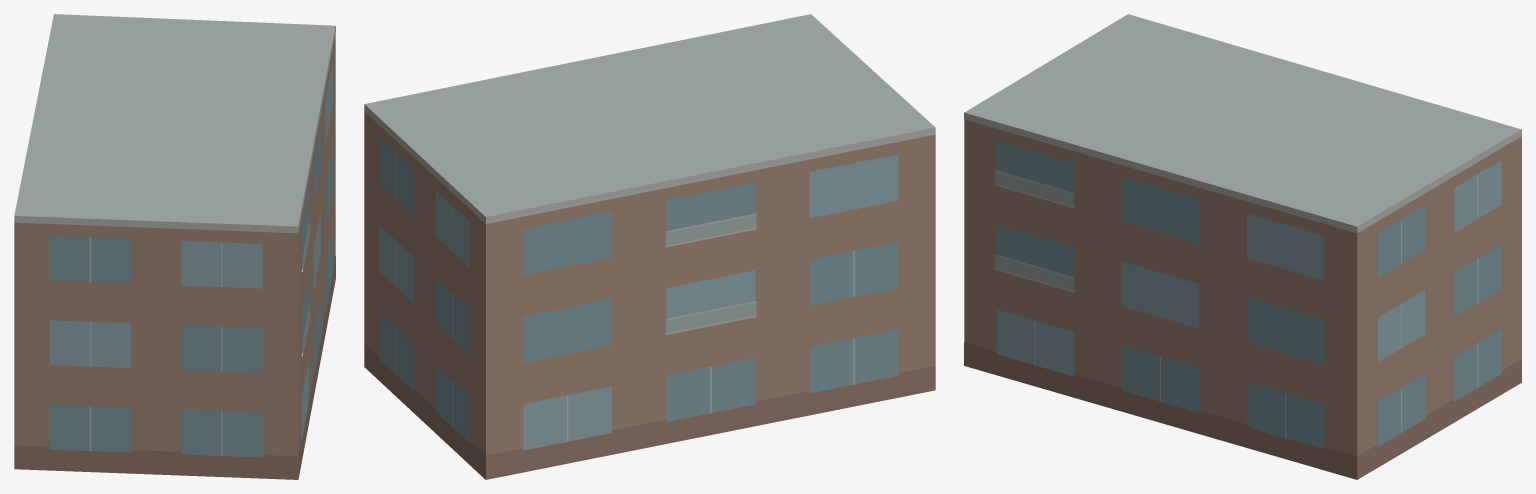
The model's file is survey-upis-32704760.glb.
3 views of the same model, side by side, from view 1: azimuth 30°, elevation 25°; view 2: azimuth 150°, elevation 25°; view 3: azimuth 270°, elevation 25° (orthographic). The views are drawn at different scales.
Visible parts, largest first — view 1: survey-upis-32704760.tmp; view 2: survey-upis-32704760.tmp; view 3: survey-upis-32704760.tmp.
Boxes of the visible parts, box(x1,y1,x2,y2) form: survey-upis-32704760.tmp: box(14, 14, 335, 479); survey-upis-32704760.tmp: box(364, 14, 935, 479); survey-upis-32704760.tmp: box(964, 14, 1521, 479).
Bounding box in the file's own units: 16.5 × 9.15 × 18.28.
